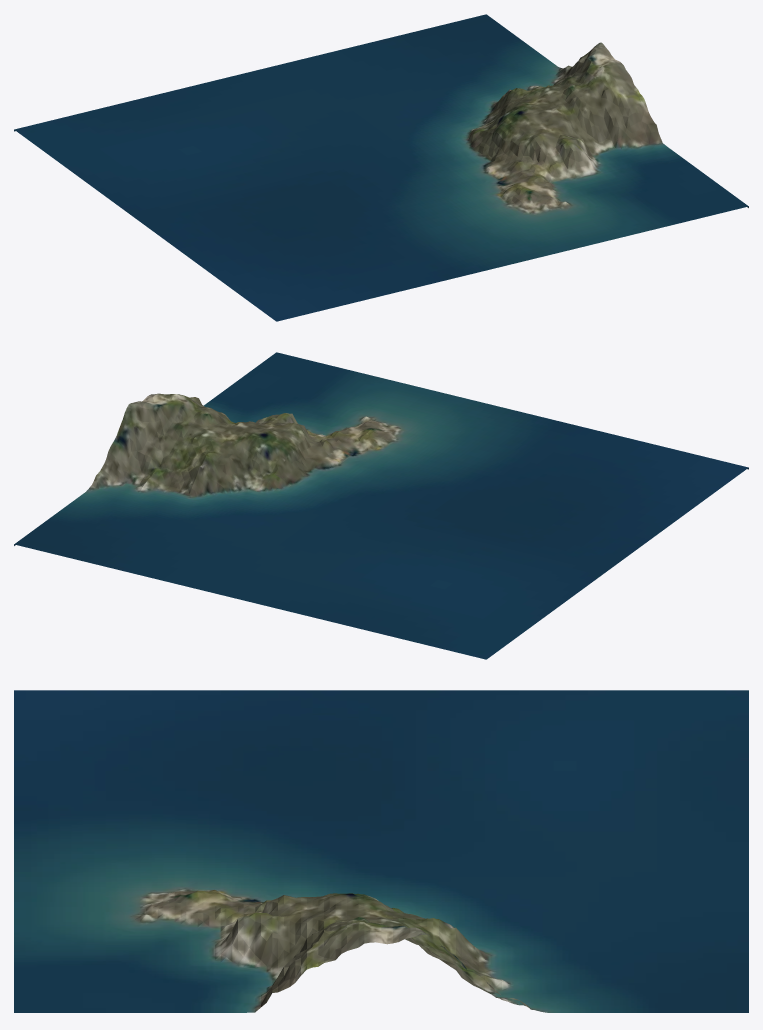
The picture shows the model from 3 angles, top to bottom: view 1: azimuth 30°, elevation 25°; view 2: azimuth 150°, elevation 25°; view 3: azimuth 270°, elevation 25°; orthographic projection. The views are drawn at different scales.
Bounding box in the file's own units: 250 × 29.3 × 241.
Materials: 1 (1 with a texture image).
